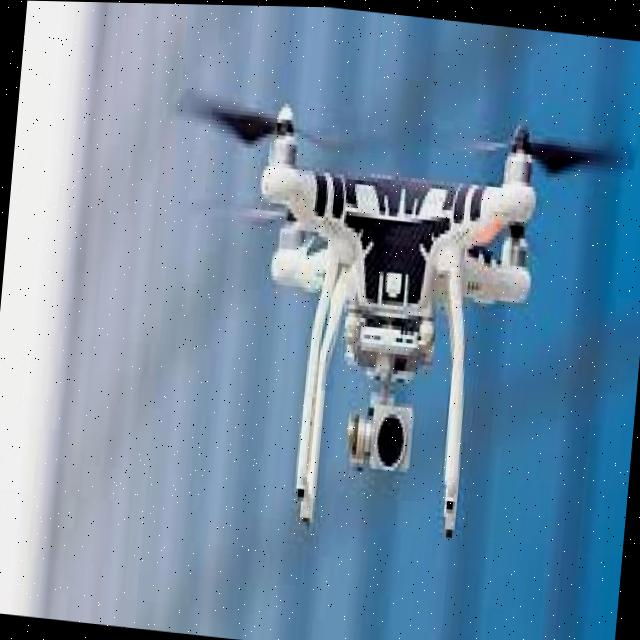drone: (151, 58, 640, 560)
